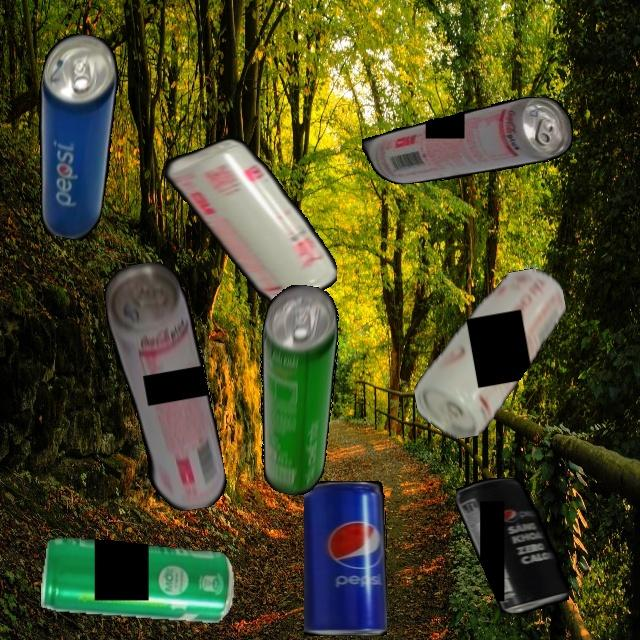debris: (99, 256, 230, 518), (397, 264, 585, 445), (164, 139, 337, 303), (236, 280, 354, 499), (15, 29, 131, 243), (361, 96, 573, 184), (40, 536, 234, 623), (456, 477, 569, 613), (303, 481, 387, 636)
